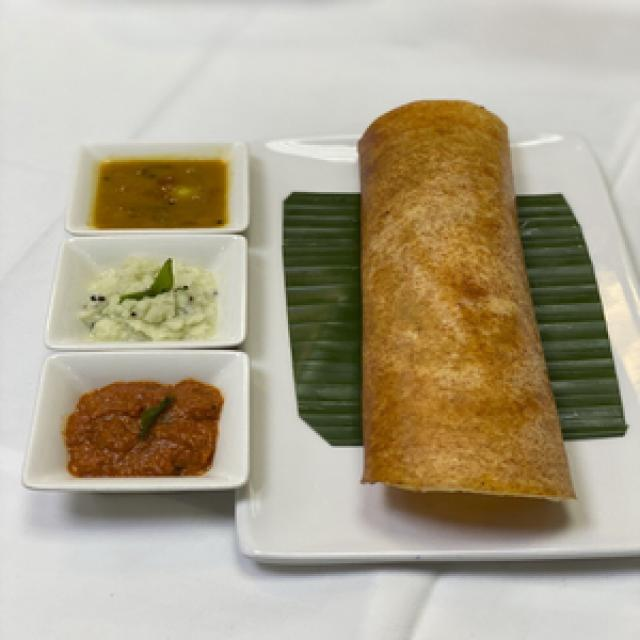dosa: (310, 80, 590, 525)
